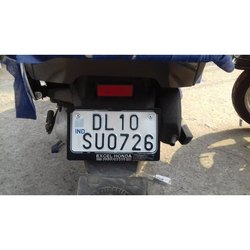doublelinenumberplate: (66, 107, 159, 161)
